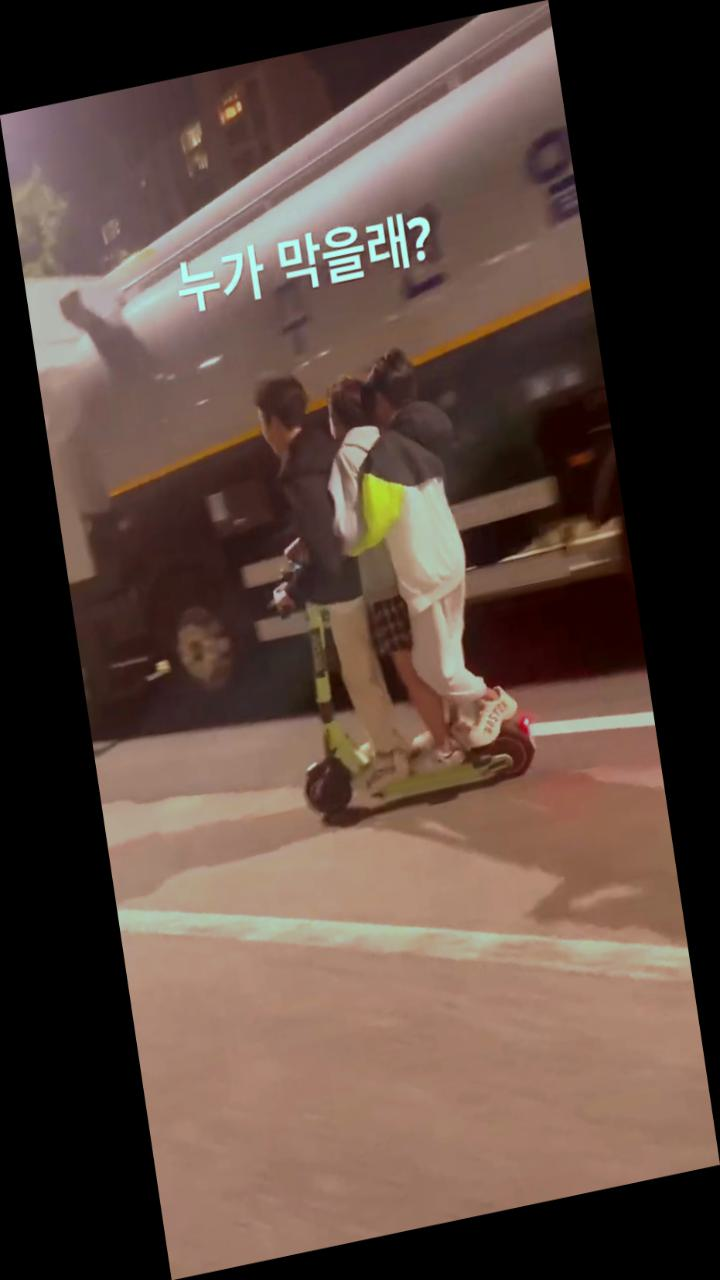multiple: (238, 325, 547, 838)
